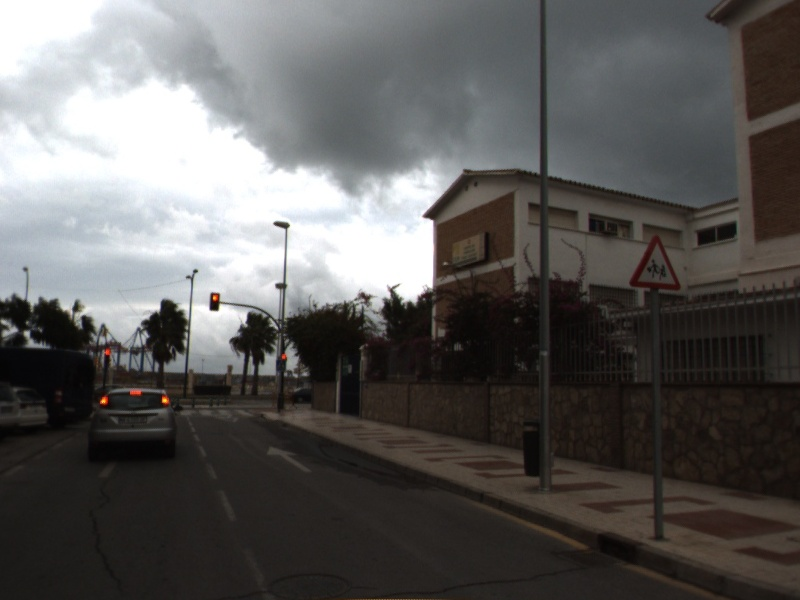STRAIGHT: (265, 444, 314, 474)
